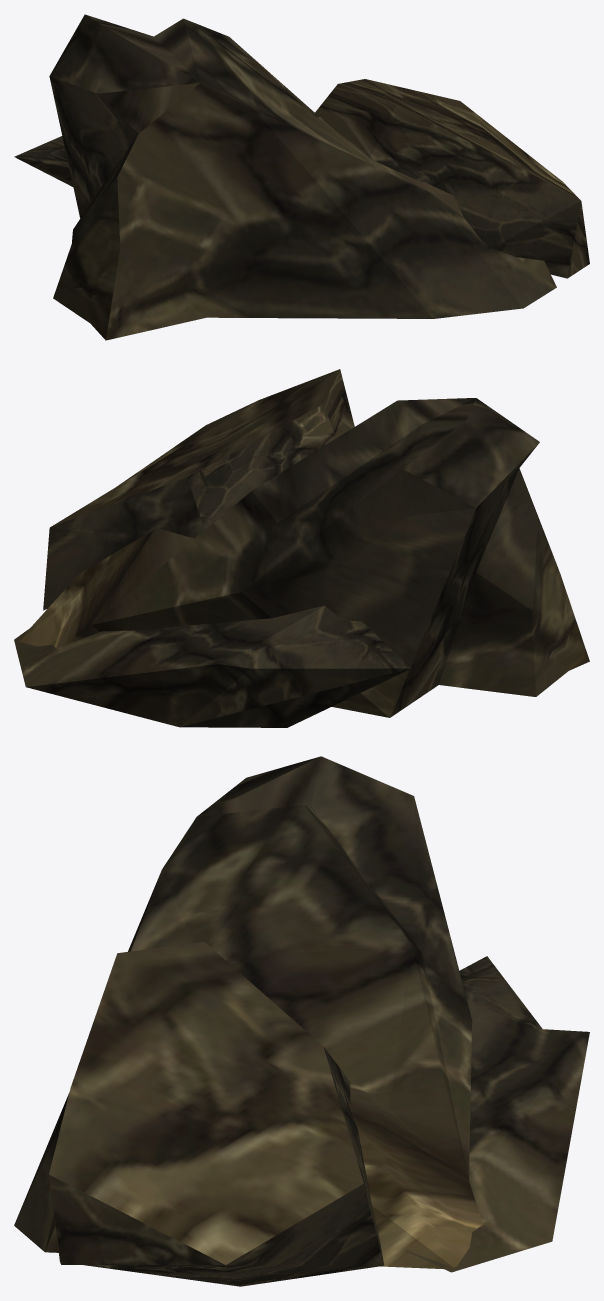
Rendered from D_shitou003.fbx.
3 renders of one model, top to bottom at view 1: azimuth 30°, elevation 25°; view 2: azimuth 150°, elevation 25°; view 3: azimuth 270°, elevation 25°, orthographic. The views are drawn at different scales.
Visible parts, largest first — view 1: D_shitou003; view 2: D_shitou003; view 3: D_shitou003.
Part boxes in pixels (<box>): D_shitou003: <box>14,14,589,340</box>; D_shitou003: <box>14,369,589,727</box>; D_shitou003: <box>14,756,589,1286</box>.
Bounding box in the file's own units: 271 × 141 × 242.
